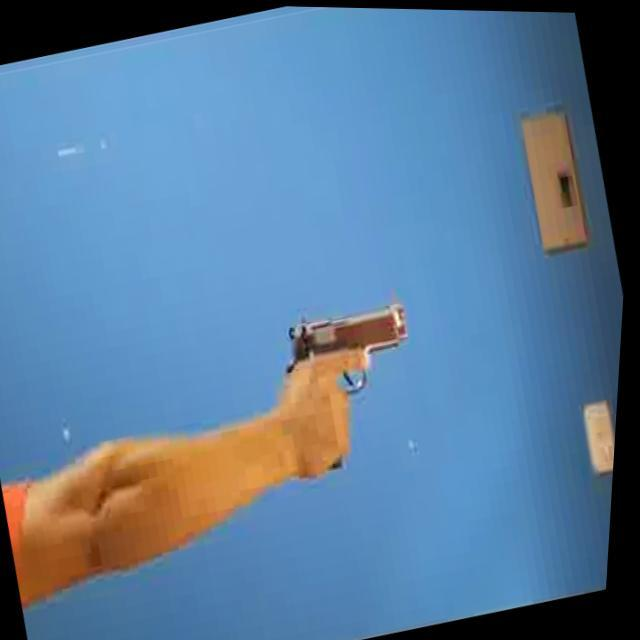weapon: (268, 284, 442, 479)
